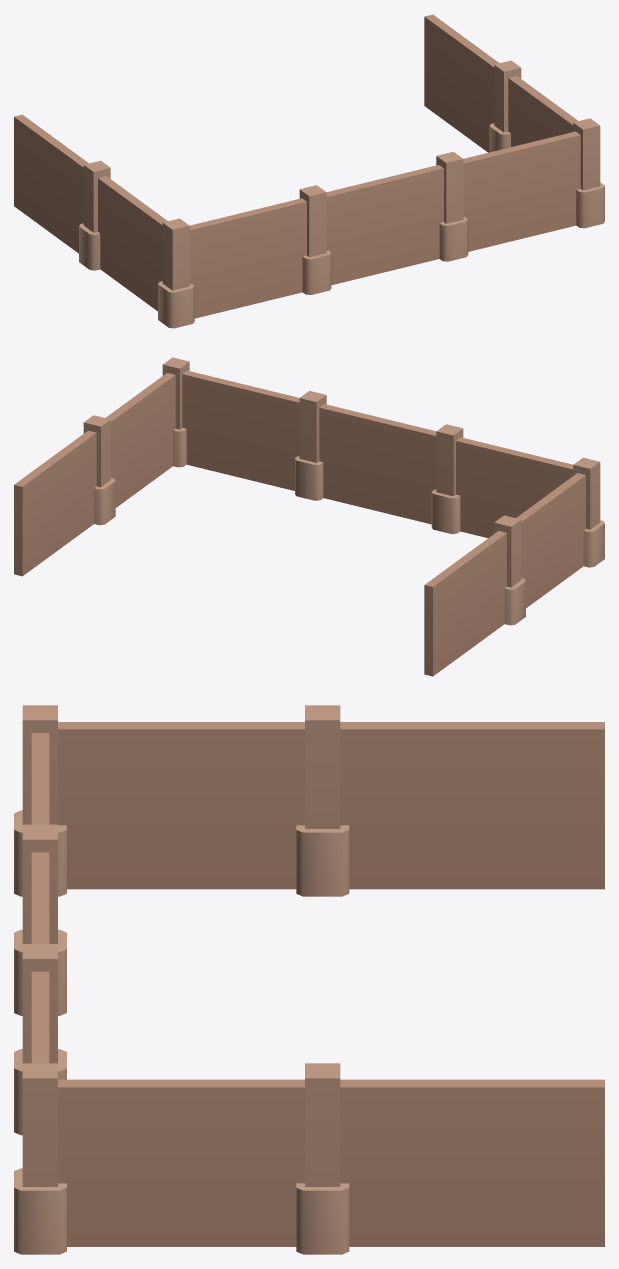
File: fence-2x3.glb
The picture shows the model from 3 angles, top to bottom: view 1: azimuth 30°, elevation 25°; view 2: azimuth 150°, elevation 25°; view 3: azimuth 270°, elevation 25°; orthographic projection. The views are drawn at different scales.
Parts seen in each view (by area): view 1: fence-2x3; view 2: fence-2x3; view 3: fence-2x3.
Part boxes in pixels (x1,y1,x2,y2): fence-2x3: (14,14,604,328); fence-2x3: (14,357,604,676); fence-2x3: (14,705,604,1254).
Size of the model in its own units: 1.28 by 0.27 by 0.8375.
